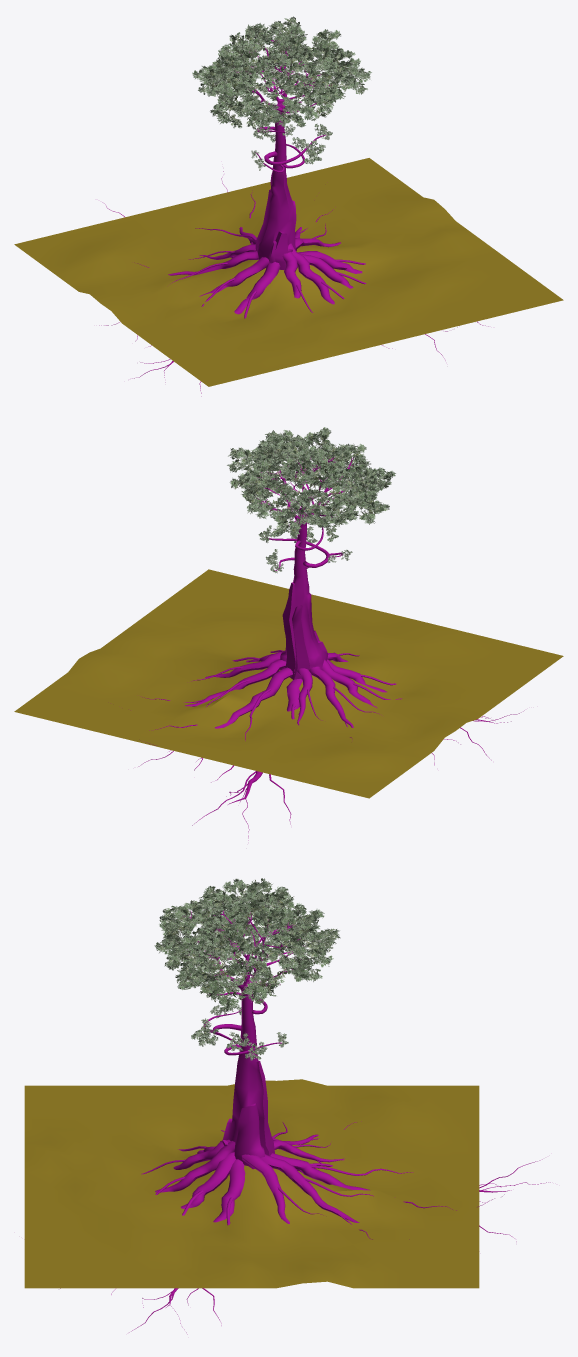
The model's file is escenarioArbol.FBX.
3 renders of one model, top to bottom at view 1: azimuth 30°, elevation 25°; view 2: azimuth 150°, elevation 25°; view 3: azimuth 270°, elevation 25°, orthographic. The views are drawn at different scales.
Parts seen in each view (by area): view 1: Suelo, Hojas, Raíces, Tronco, Copa; view 2: Suelo, Hojas, Raíces, Tronco, Copa; view 3: Suelo, Hojas, Raíces, Tronco, Copa.
Part boxes in pixels (x1=…): Suelo: x1=14, y1=158, x2=563, y2=386; Hojas: x1=192, y1=16, x2=371, y2=129; Raíces: x1=99, y1=171, x2=488, y2=396; Tronco: x1=255, y1=116, x2=296, y2=270; Copa: x1=235, y1=40, x2=331, y2=116; Suelo: x1=14, y1=569, x2=563, y2=798; Hojas: x1=227, y1=427, x2=395, y2=537; Raíces: x1=138, y1=650, x2=524, y2=840; Tronco: x1=280, y1=525, x2=328, y2=679; Copa: x1=257, y1=457, x2=354, y2=526; Suelo: x1=24, y1=1079, x2=479, y2=1288; Hojas: x1=154, y1=878, x2=340, y2=1011; Raíces: x1=60, y1=1121, x2=550, y2=1334; Tronco: x1=222, y1=994, x2=274, y2=1169; Copa: x1=183, y1=910, x2=309, y2=995.
Size of the model in its own units: 6713 by 5175 by 6969.
